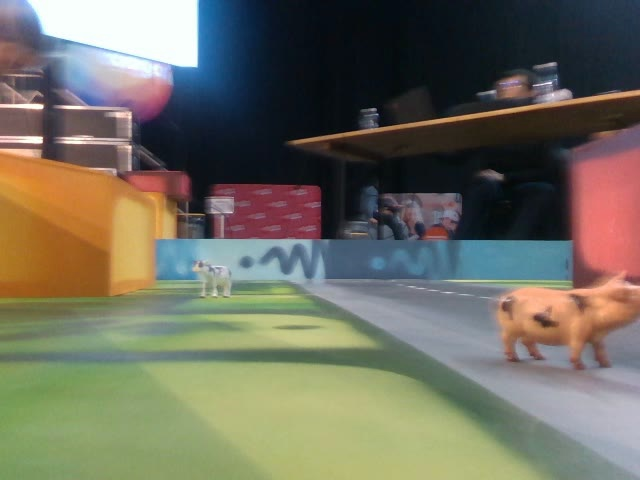toy: (190, 258, 234, 299)
